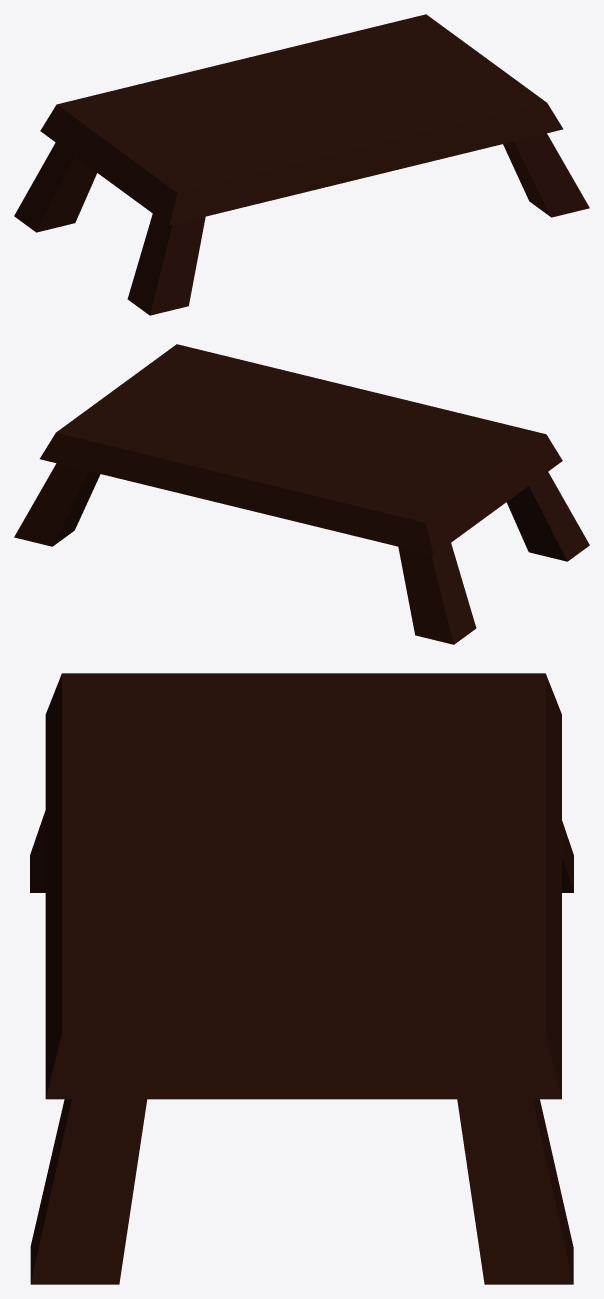
The model's file is House_LivingRoom_CoffeeTable.FBX.
3 views of the same model, one above another, from view 1: azimuth 30°, elevation 25°; view 2: azimuth 150°, elevation 25°; view 3: azimuth 270°, elevation 25° (orthographic). The views are drawn at different scales.
Visible parts, largest first — view 1: House_LivingRoom_CoffeeTable_chunkRight, House_LivingRoom_CoffeeTable_chunkLeft, House_LivingRoom_CoffeeTable_leg1, House_LivingRoom_CoffeeTable_leg2, House_LivingRoom_CoffeeTable_leg4; view 2: House_LivingRoom_CoffeeTable_chunkLeft, House_LivingRoom_CoffeeTable_chunkRight, House_LivingRoom_CoffeeTable_leg2, House_LivingRoom_CoffeeTable_leg1, House_LivingRoom_CoffeeTable_leg3; view 3: House_LivingRoom_CoffeeTable_chunkRight, House_LivingRoom_CoffeeTable_chunkLeft, House_LivingRoom_CoffeeTable_leg4, House_LivingRoom_CoffeeTable_leg3, House_LivingRoom_CoffeeTable_leg1.
Boxes of the visible parts, left/top/right/bottom form: House_LivingRoom_CoffeeTable_chunkRight: left=271, top=14, right=563, bottom=186; House_LivingRoom_CoffeeTable_chunkLeft: left=40, top=52, right=325, bottom=225; House_LivingRoom_CoffeeTable_leg1: left=127, top=214, right=205, bottom=315; House_LivingRoom_CoffeeTable_leg2: left=14, top=142, right=96, bottom=232; House_LivingRoom_CoffeeTable_leg4: left=503, top=133, right=589, bottom=217; House_LivingRoom_CoffeeTable_chunkLeft: left=190, top=402, right=562, bottom=555; House_LivingRoom_CoffeeTable_chunkRight: left=40, top=344, right=412, bottom=495; House_LivingRoom_CoffeeTable_leg2: left=398, top=543, right=476, bottom=644; House_LivingRoom_CoffeeTable_leg1: left=506, top=472, right=589, bottom=561; House_LivingRoom_CoffeeTable_leg3: left=14, top=463, right=100, bottom=546; House_LivingRoom_CoffeeTable_chunkRight: left=45, top=803, right=561, bottom=1099; House_LivingRoom_CoffeeTable_chunkLeft: left=45, top=673, right=561, bottom=951; House_LivingRoom_CoffeeTable_leg4: left=30, top=1099, right=147, bottom=1284; House_LivingRoom_CoffeeTable_leg3: left=457, top=1099, right=573, bottom=1284; House_LivingRoom_CoffeeTable_leg1: left=30, top=810, right=45, bottom=892.
Bounding box in the file's own units: 321 × 75.49 × 172.
